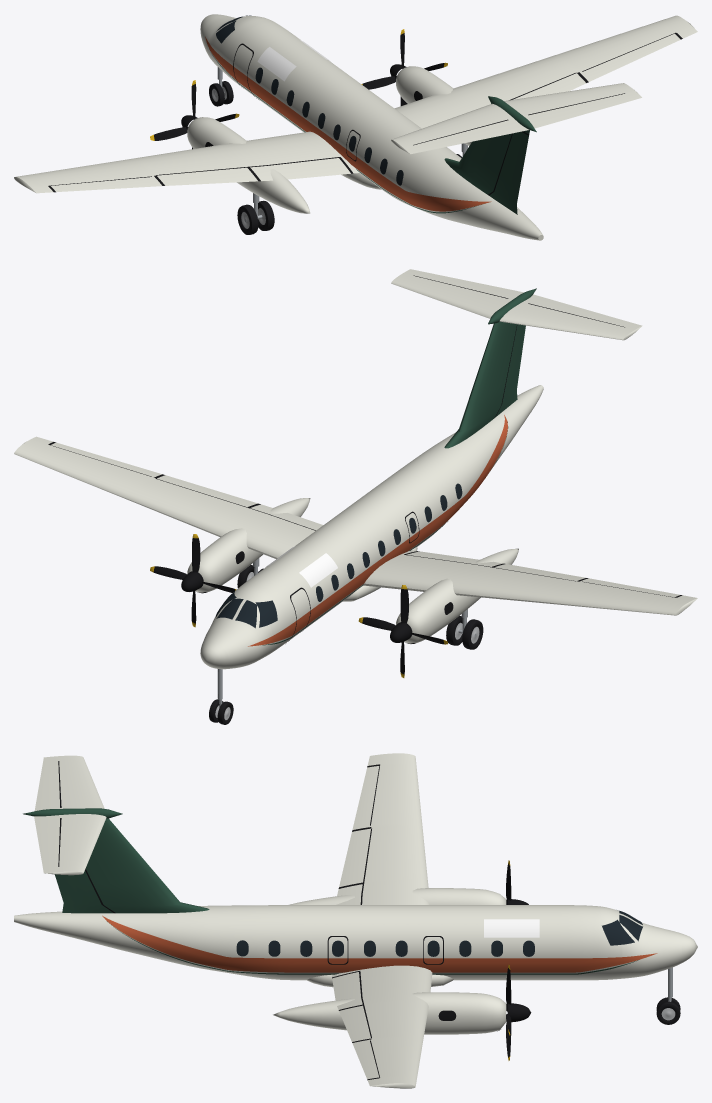
File: jaz-60.glb
The picture shows the model from 3 angles, top to bottom: view 1: azimuth 30°, elevation 25°; view 2: azimuth 150°, elevation 25°; view 3: azimuth 270°, elevation 25°; orthographic projection. The views are drawn at different scales.
Parts seen in each view (by area): view 1: fuselaje, ala, estabilizador, gondola, cintura, deriva, timon-de-direccion-piel, flap-fuera-izquierda-piel, profundidad-izquierda-piel, profundidad-derecha-piel, aleron-derecha-piel, ventanillas (+9 smaller); view 2: fuselaje, ala, gondola, estabilizador, deriva, cintura, ventanillas, helice-izquierda-palas, helice-derecha-palas, profundidad-izquierda-piel, timon-de-direccion-piel, profundidad-derecha-piel (+3 smaller); view 3: fuselaje, ala, cintura, gondola, deriva, estabilizador, ventanillas, flap-fuera-izquierda-piel, timon-de-direccion-piel, marca, profundidad-derecha-piel, profundidad-izquierda-piel (+6 smaller).
Part boxes in pixels (x1,y1,x2,y2): fuselaje: (200,14,543,240); ala: (14,15,697,193); estabilizador: (391,83,641,154); gondola: (187,66,471,213); cintura: (205,36,491,211); deriva: (444,130,529,214); timon-de-direccion-piel: (494,131,528,204); flap-fuera-izquierda-piel: (157,167,257,185); profundidad-izquierda-piel: (413,120,520,151); profundidad-derecha-piel: (529,93,632,126); aleron-derecha-piel: (583,33,680,80); ventanillas: (255,67,403,185); fuselaje: (200,385,543,669); ala: (14,436,697,615); gondola: (187,498,518,643); estabilizador: (391,269,642,340); deriva: (444,321,517,448); cintura: (248,415,507,646); ventanillas: (316,483,462,601); helice-izquierda-palas: (362,589,444,674); helice-derecha-palas: (153,538,234,623); profundidad-izquierda-piel: (529,296,632,326); timon-de-direccion-piel: (502,324,525,404); profundidad-derecha-piel: (413,271,520,298); fuselaje: (14,905,697,980); ala: (331,753,432,1088); cintura: (102,915,657,972); gondola: (273,888,506,1034); deriva: (62,818,209,913); estabilizador: (34,755,106,875); ventanillas: (236,940,534,956); flap-fuera-izquierda-piel: (339,828,370,887); timon-de-direccion-piel: (54,870,101,904); marca: (484,919,539,937); profundidad-derecha-piel: (34,818,59,868); profundidad-izquierda-piel: (35,761,59,810).
Size of the model in its own units: 19.79 by 5.91 by 17.2.
